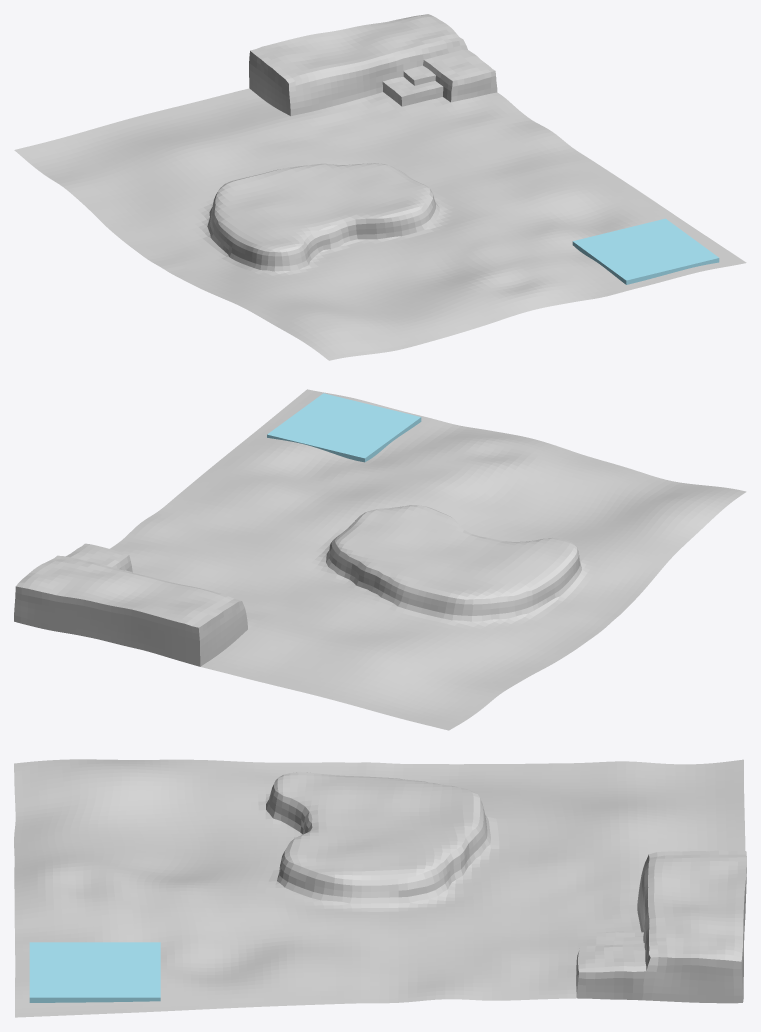
File: level1.glb
3 renders of one model, top to bottom at view 1: azimuth 30°, elevation 25°; view 2: azimuth 150°, elevation 25°; view 3: azimuth 270°, elevation 25°, orthographic. The views are drawn at different scales.
Parts seen in each view (by area): view 1: Terrain, Ice; view 2: Terrain, Ice; view 3: Terrain, Ice.
Boxes of the visible parts, x1,y1,x2,y2 form: Terrain: (14, 14, 746, 360); Ice: (572, 218, 719, 284); Terrain: (14, 389, 746, 730); Ice: (267, 393, 421, 462); Terrain: (14, 759, 746, 1017); Ice: (29, 942, 160, 1002).
Size of the model in its own units: 245 by 26.32 by 290.
